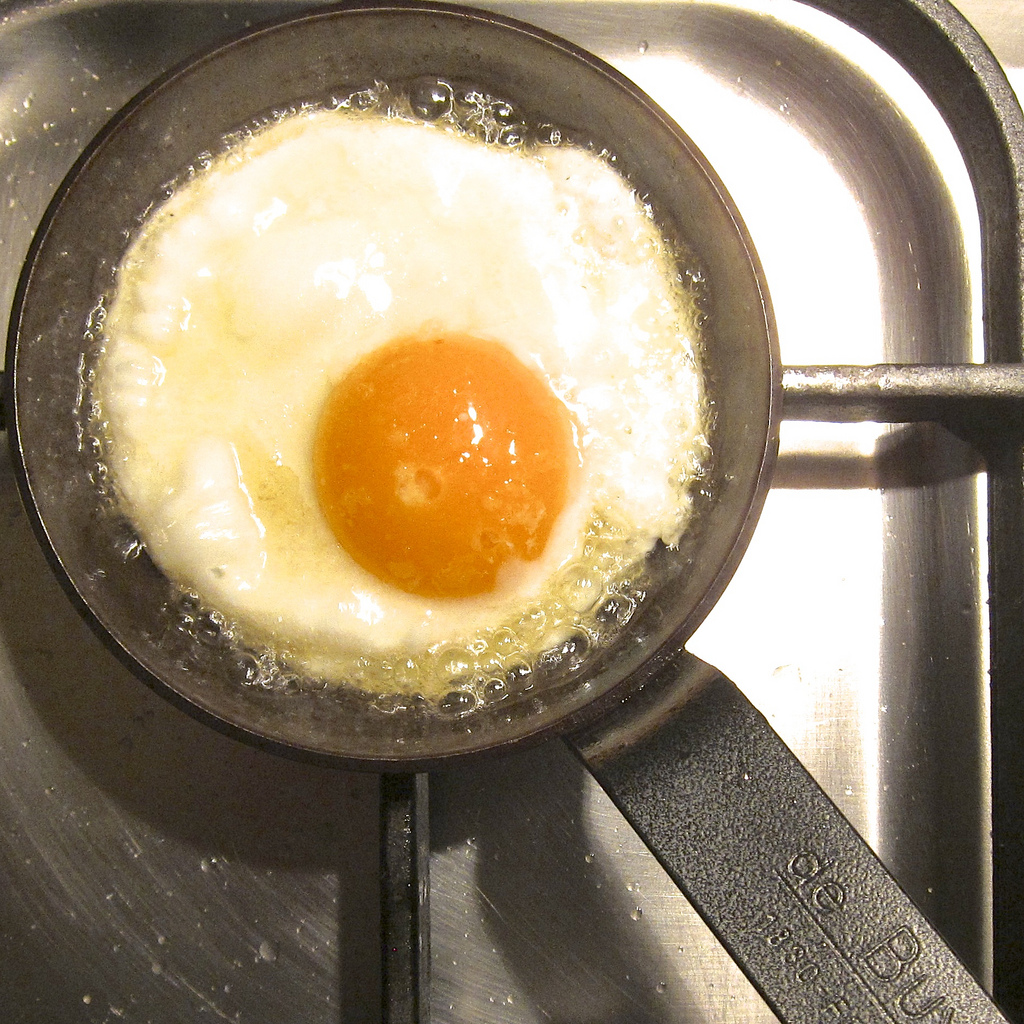fried egg: (208, 241, 633, 626)
